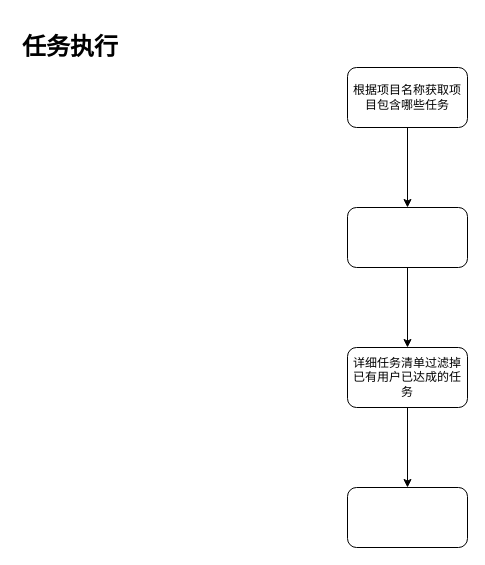
Image size: 485x565. Some labels were removed from this diagram. Each missing label, with the box of its shape:
提取未完成任务清单的第一条作为当前要执行的任务: (346, 486, 468, 548)
根据包含任的务获取详细的任务清单: (346, 206, 468, 268)
